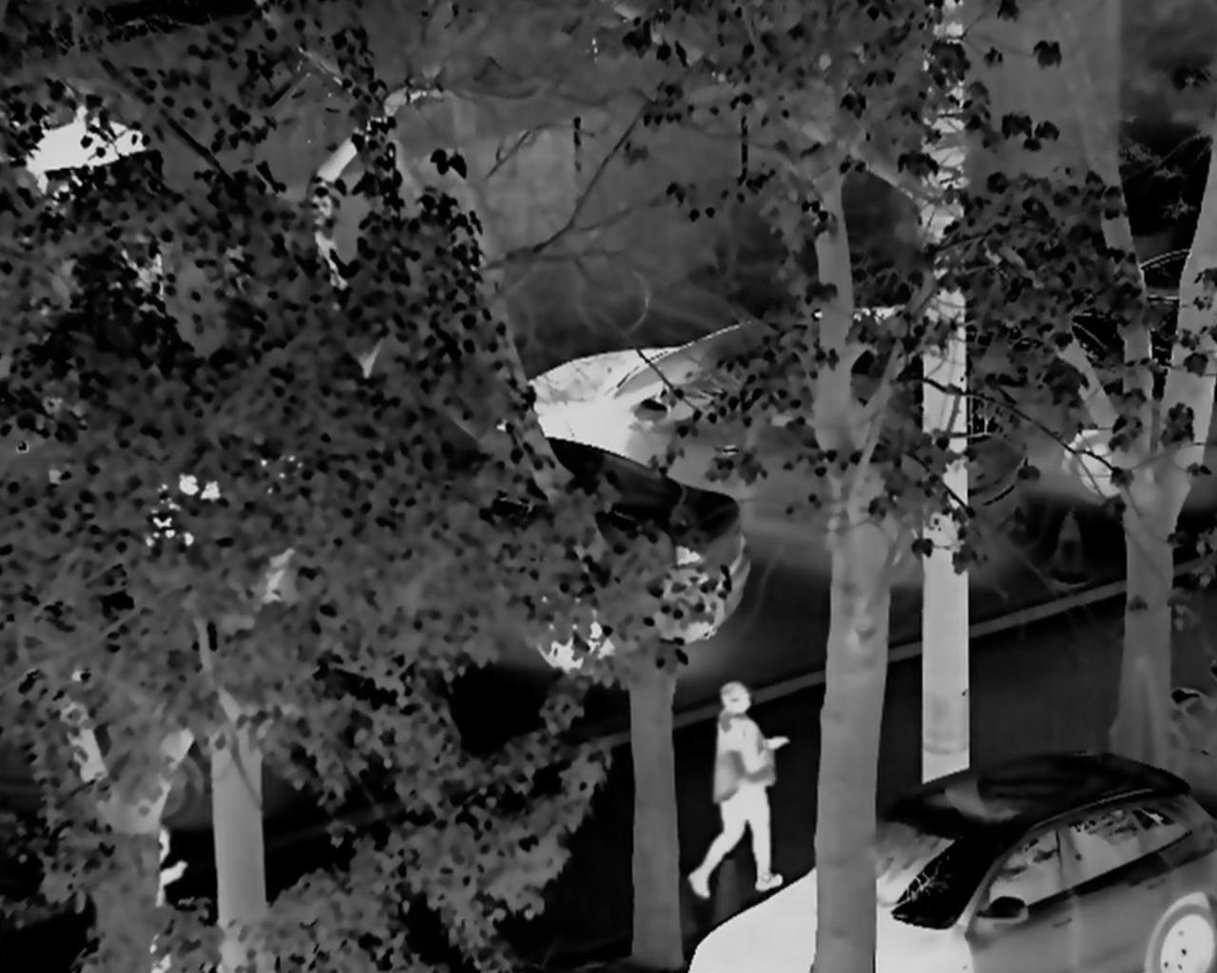person: (688, 677, 783, 905)
